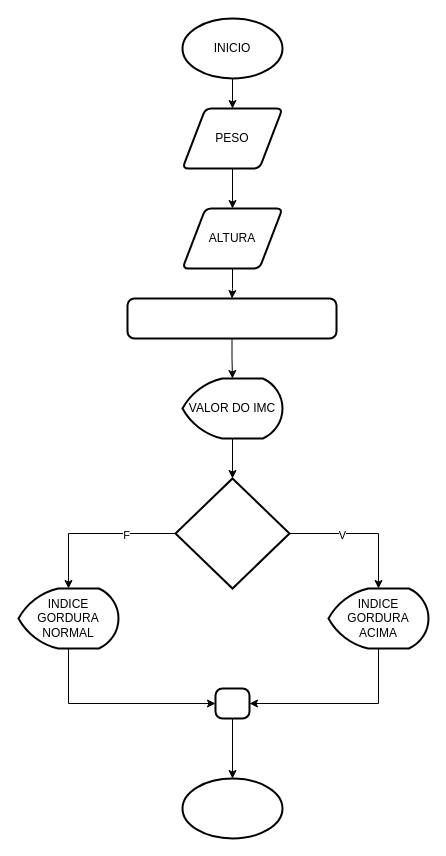
Some shapes in this 446 by 856 pixel diagram are drawn without their labels. The shapes that lost their labels are listed below. From the top down, each one's centre as x and y in pixels, then its label:
the point at 231,318: IMC = PESO / (ALTURA * ALTURA)
the point at 232,533: IMC >= 25
the point at 232,808: FIM
